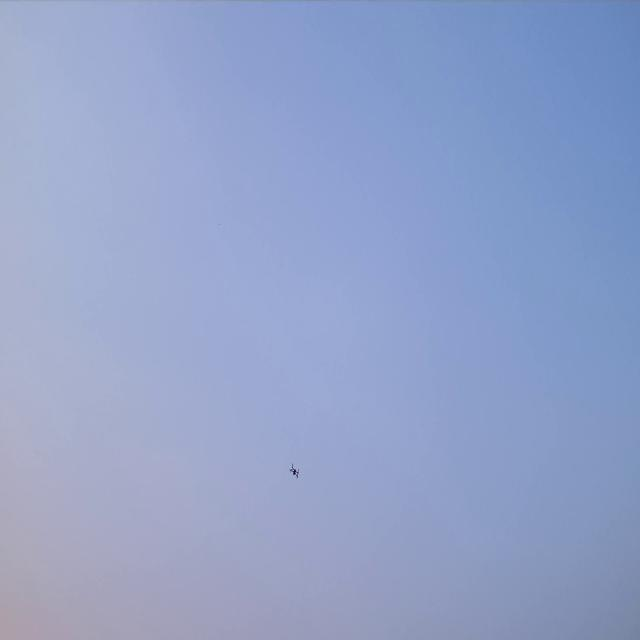UAV: (289, 462, 300, 478)
